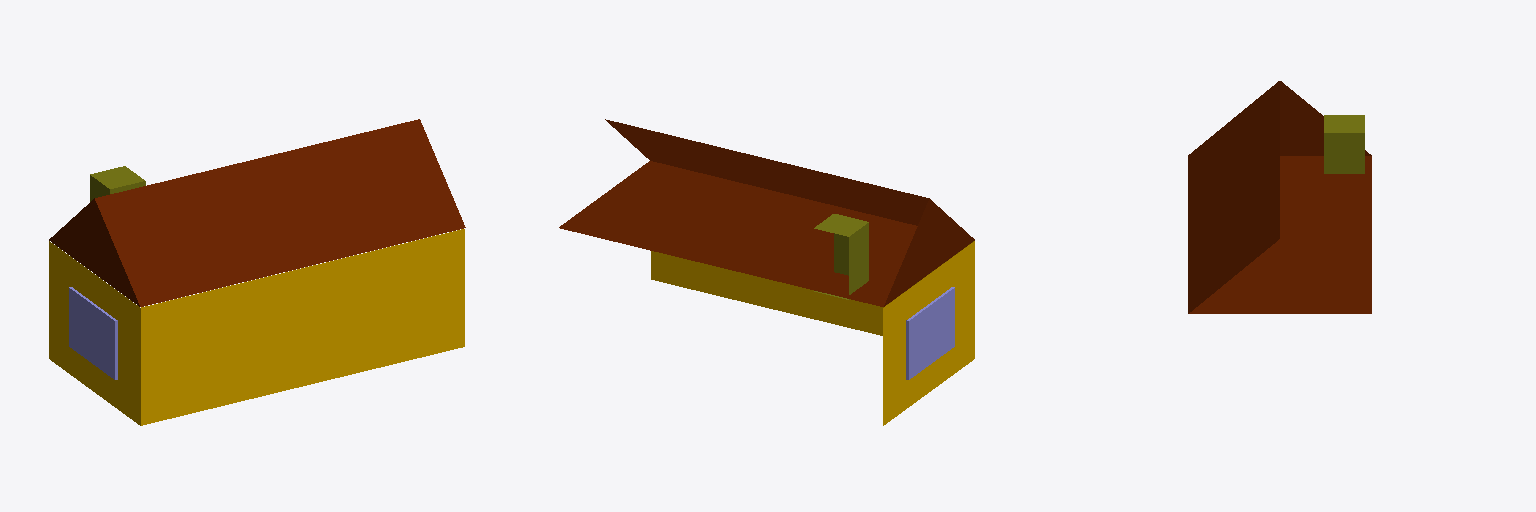
Rendered from Home.obj.
3 renders of one model, left to right at view 1: azimuth 30°, elevation 25°; view 2: azimuth 150°, elevation 25°; view 3: azimuth 270°, elevation 25°, orthographic.
Visible parts, largest first — view 1: Cube.003_Cube.004, Cube.004_Cube.005, Cube.001, Cube; view 2: Cube.004_Cube.005, Cube.003_Cube.004, Cube.001, Cube; view 3: Cube.004_Cube.005, Cube.
Boxes of the visible parts, x1=… form: Cube.003_Cube.004: x1=49, y1=229, x2=464, y2=425; Cube.004_Cube.005: x1=49, y1=119, x2=465, y2=306; Cube.001: x1=69, y1=287, x2=117, y2=379; Cube: x1=90, y1=166, x2=145, y2=201; Cube.004_Cube.005: x1=559, y1=119, x2=974, y2=306; Cube.003_Cube.004: x1=651, y1=241, x2=974, y2=425; Cube.001: x1=906, y1=287, x2=954, y2=379; Cube: x1=814, y1=214, x2=868, y2=299; Cube.004_Cube.005: x1=1188, y1=81, x2=1371, y2=313; Cube: x1=1324, y1=115, x2=1364, y2=173.
Bounding box in the file's own units: 5.75 × 3.25 × 2.79.